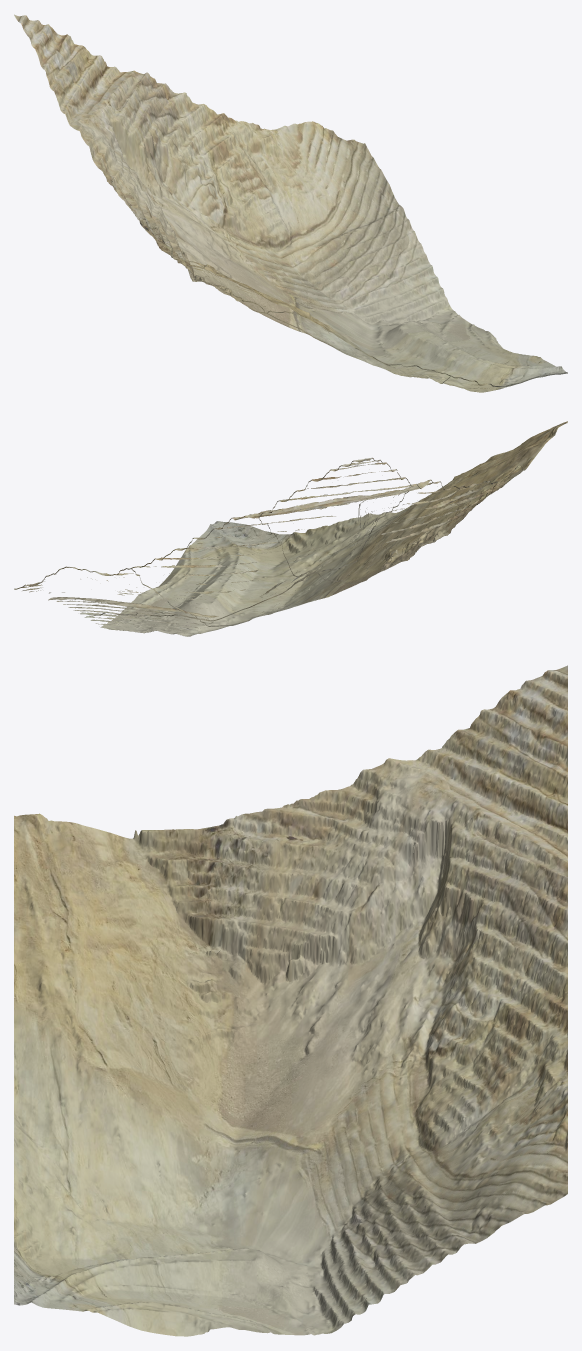
3 renders of one model, top to bottom at view 1: azimuth 30°, elevation 25°; view 2: azimuth 150°, elevation 25°; view 3: azimuth 270°, elevation 25°, orthographic. The views are drawn at different scales.
Parts seen in each view (by area): view 1: l2-0-1; view 2: l2-0-1; view 3: l2-0-1.
Boxes of the visible parts, <box> form: l2-0-1: <box>14,14,567,392</box>; l2-0-1: <box>14,421,567,636</box>; l2-0-1: <box>14,665,567,1336</box>.
Bounding box in the file's own units: 768 × 669 × 768.
1 material, 1 textured.
